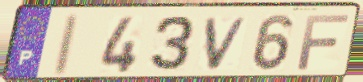3: (149, 14, 199, 74)
4: (99, 14, 139, 75)
6: (250, 13, 296, 73)
F: (295, 13, 352, 72)
I: (49, 12, 82, 79)
V: (204, 15, 252, 72)
